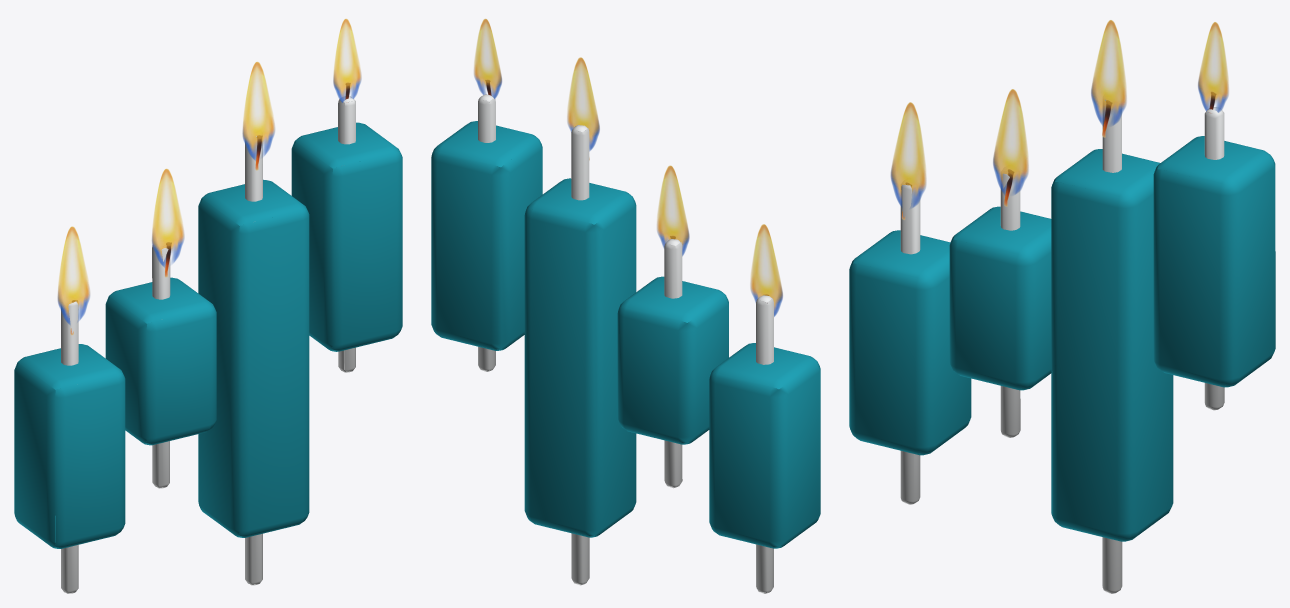
File: tinyJapCanOnlyAnim.glb
3 views of the same model, side by side, from view 1: azimuth 30°, elevation 25°; view 2: azimuth 150°, elevation 25°; view 3: azimuth 330°, elevation 25° (orthographic). The views are drawn at different scales.
Visible parts, largest first — view 1: XBase.002, XBase, XBase.003, XBase.001, Flame2, Flame1, Flame, Flame3; view 2: XBase.002, XBase, XBase.003, XBase.001, Flame1, Flame, Flame2, Flame3; view 3: XBase.002, XBase.003, XBase, XBase.001, Flame2, Flame1, Flame, Flame3.
Part boxes in pixels (<box>): XBase.002: <box>198,136,309,585</box>; XBase: <box>14,301,125,593</box>; XBase.003: <box>291,96,402,372</box>; XBase.001: <box>105,245,216,488</box>; Flame2: <box>242,62,275,170</box>; Flame1: <box>152,168,184,277</box>; Flame: <box>57,226,90,335</box>; Flame3: <box>333,19,361,102</box>; XBase.002: <box>524,125,636,585</box>; XBase: <box>709,295,820,593</box>; XBase.003: <box>431,94,542,371</box>; XBase.001: <box>617,239,728,488</box>; Flame1: <box>657,165,689,255</box>; Flame: <box>750,224,782,316</box>; Flame2: <box>567,57,599,160</box>; Flame3: <box>474,19,502,98</box>; XBase.002: <box>1051,99,1173,593</box>; XBase.003: <box>1153,107,1275,410</box>; XBase: <box>849,183,971,504</box>; XBase.001: <box>949,171,1051,437</box>; Flame2: <box>1091,20,1126,137</box>; Flame1: <box>993,89,1028,206</box>; Flame: <box>890,102,926,219</box>; Flame3: <box>1198,22,1228,112</box>.
Bounding box in the file's own units: 1.67 × 2.43 × 0.3668.
3 materials, 1 textured.
